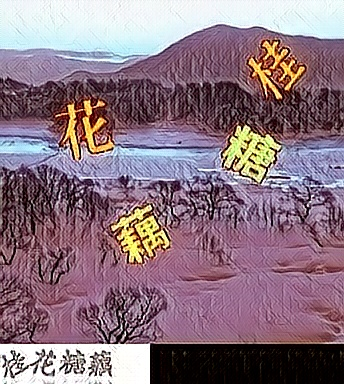B9F0: (243, 35, 308, 99)
BBA8: (55, 97, 120, 161)
C5BA: (110, 202, 175, 266)
CCC7: (217, 122, 282, 186)
